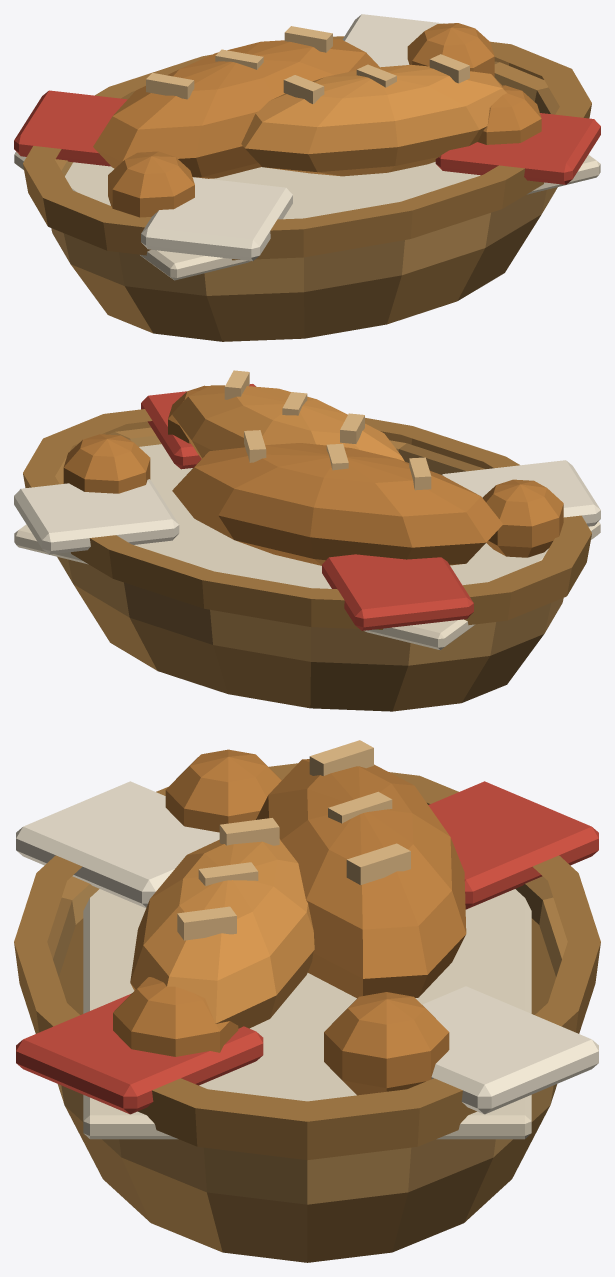
Rendered from bread_basket.glb.
3 renders of one model, top to bottom at view 1: azimuth 30°, elevation 25°; view 2: azimuth 150°, elevation 25°; view 3: azimuth 270°, elevation 25°, orthographic. The views are drawn at different scales.
Parts seen in each view (by area): view 1: Wicker, Food, Cloth; view 2: Wicker, Food, Cloth; view 3: Food, Wicker, Cloth.
Boxes of the visible parts, x1,y1,x2,y2 form: Wicker: (23, 36, 591, 341); Food: (93, 23, 541, 217); Cloth: (14, 14, 600, 280); Wicker: (23, 409, 591, 711); Food: (63, 370, 563, 565); Cloth: (14, 384, 600, 650); Food: (113, 740, 466, 1095); Wicker: (14, 763, 600, 1262); Cloth: (16, 781, 598, 1139).
Size of the model in its own units: 1.29 by 0.4854 by 0.8904.
Materials: 3 (3 with a texture image).
